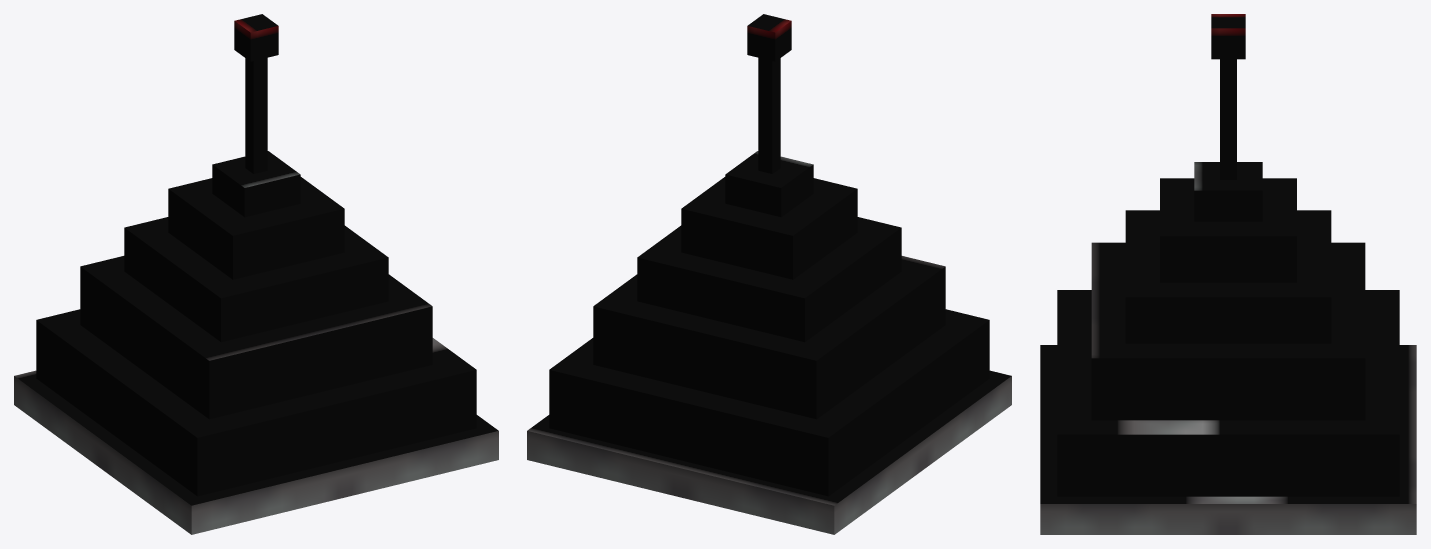
Rendered from tier_1_rocket_top.obj.
3 views of the same model, side by side, from view 1: azimuth 30°, elevation 25°; view 2: azimuth 150°, elevation 25°; view 3: azimuth 270°, elevation 25° (orthographic). The views are drawn at different scales.
Parts seen in each view (by area): view 1: RocketTop_Cube.016; view 2: RocketTop_Cube.016; view 3: RocketTop_Cube.016.
Boxes of the visible parts, <box> form: RocketTop_Cube.016: <box>14,14,498,534</box>; RocketTop_Cube.016: <box>527,14,1011,534</box>; RocketTop_Cube.016: <box>1040,14,1416,534</box>.
Size of the model in its own units: 1.38 by 1.75 by 1.38.
